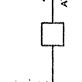Cable Termination Box: (35, 16, 72, 52)
